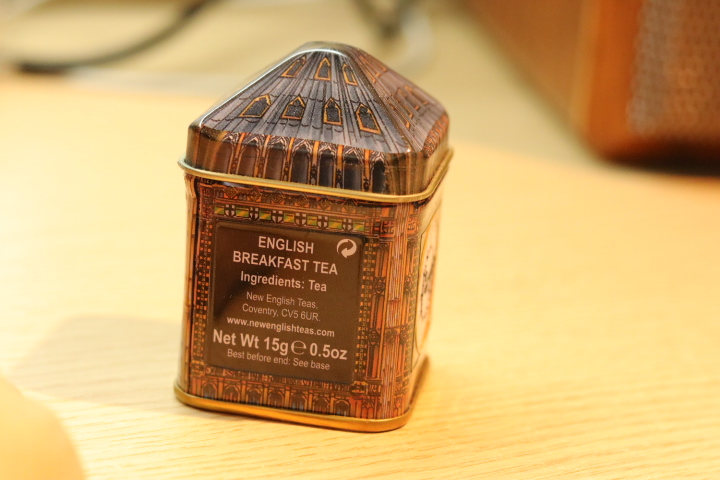Big Ben: (159, 33, 476, 445)
